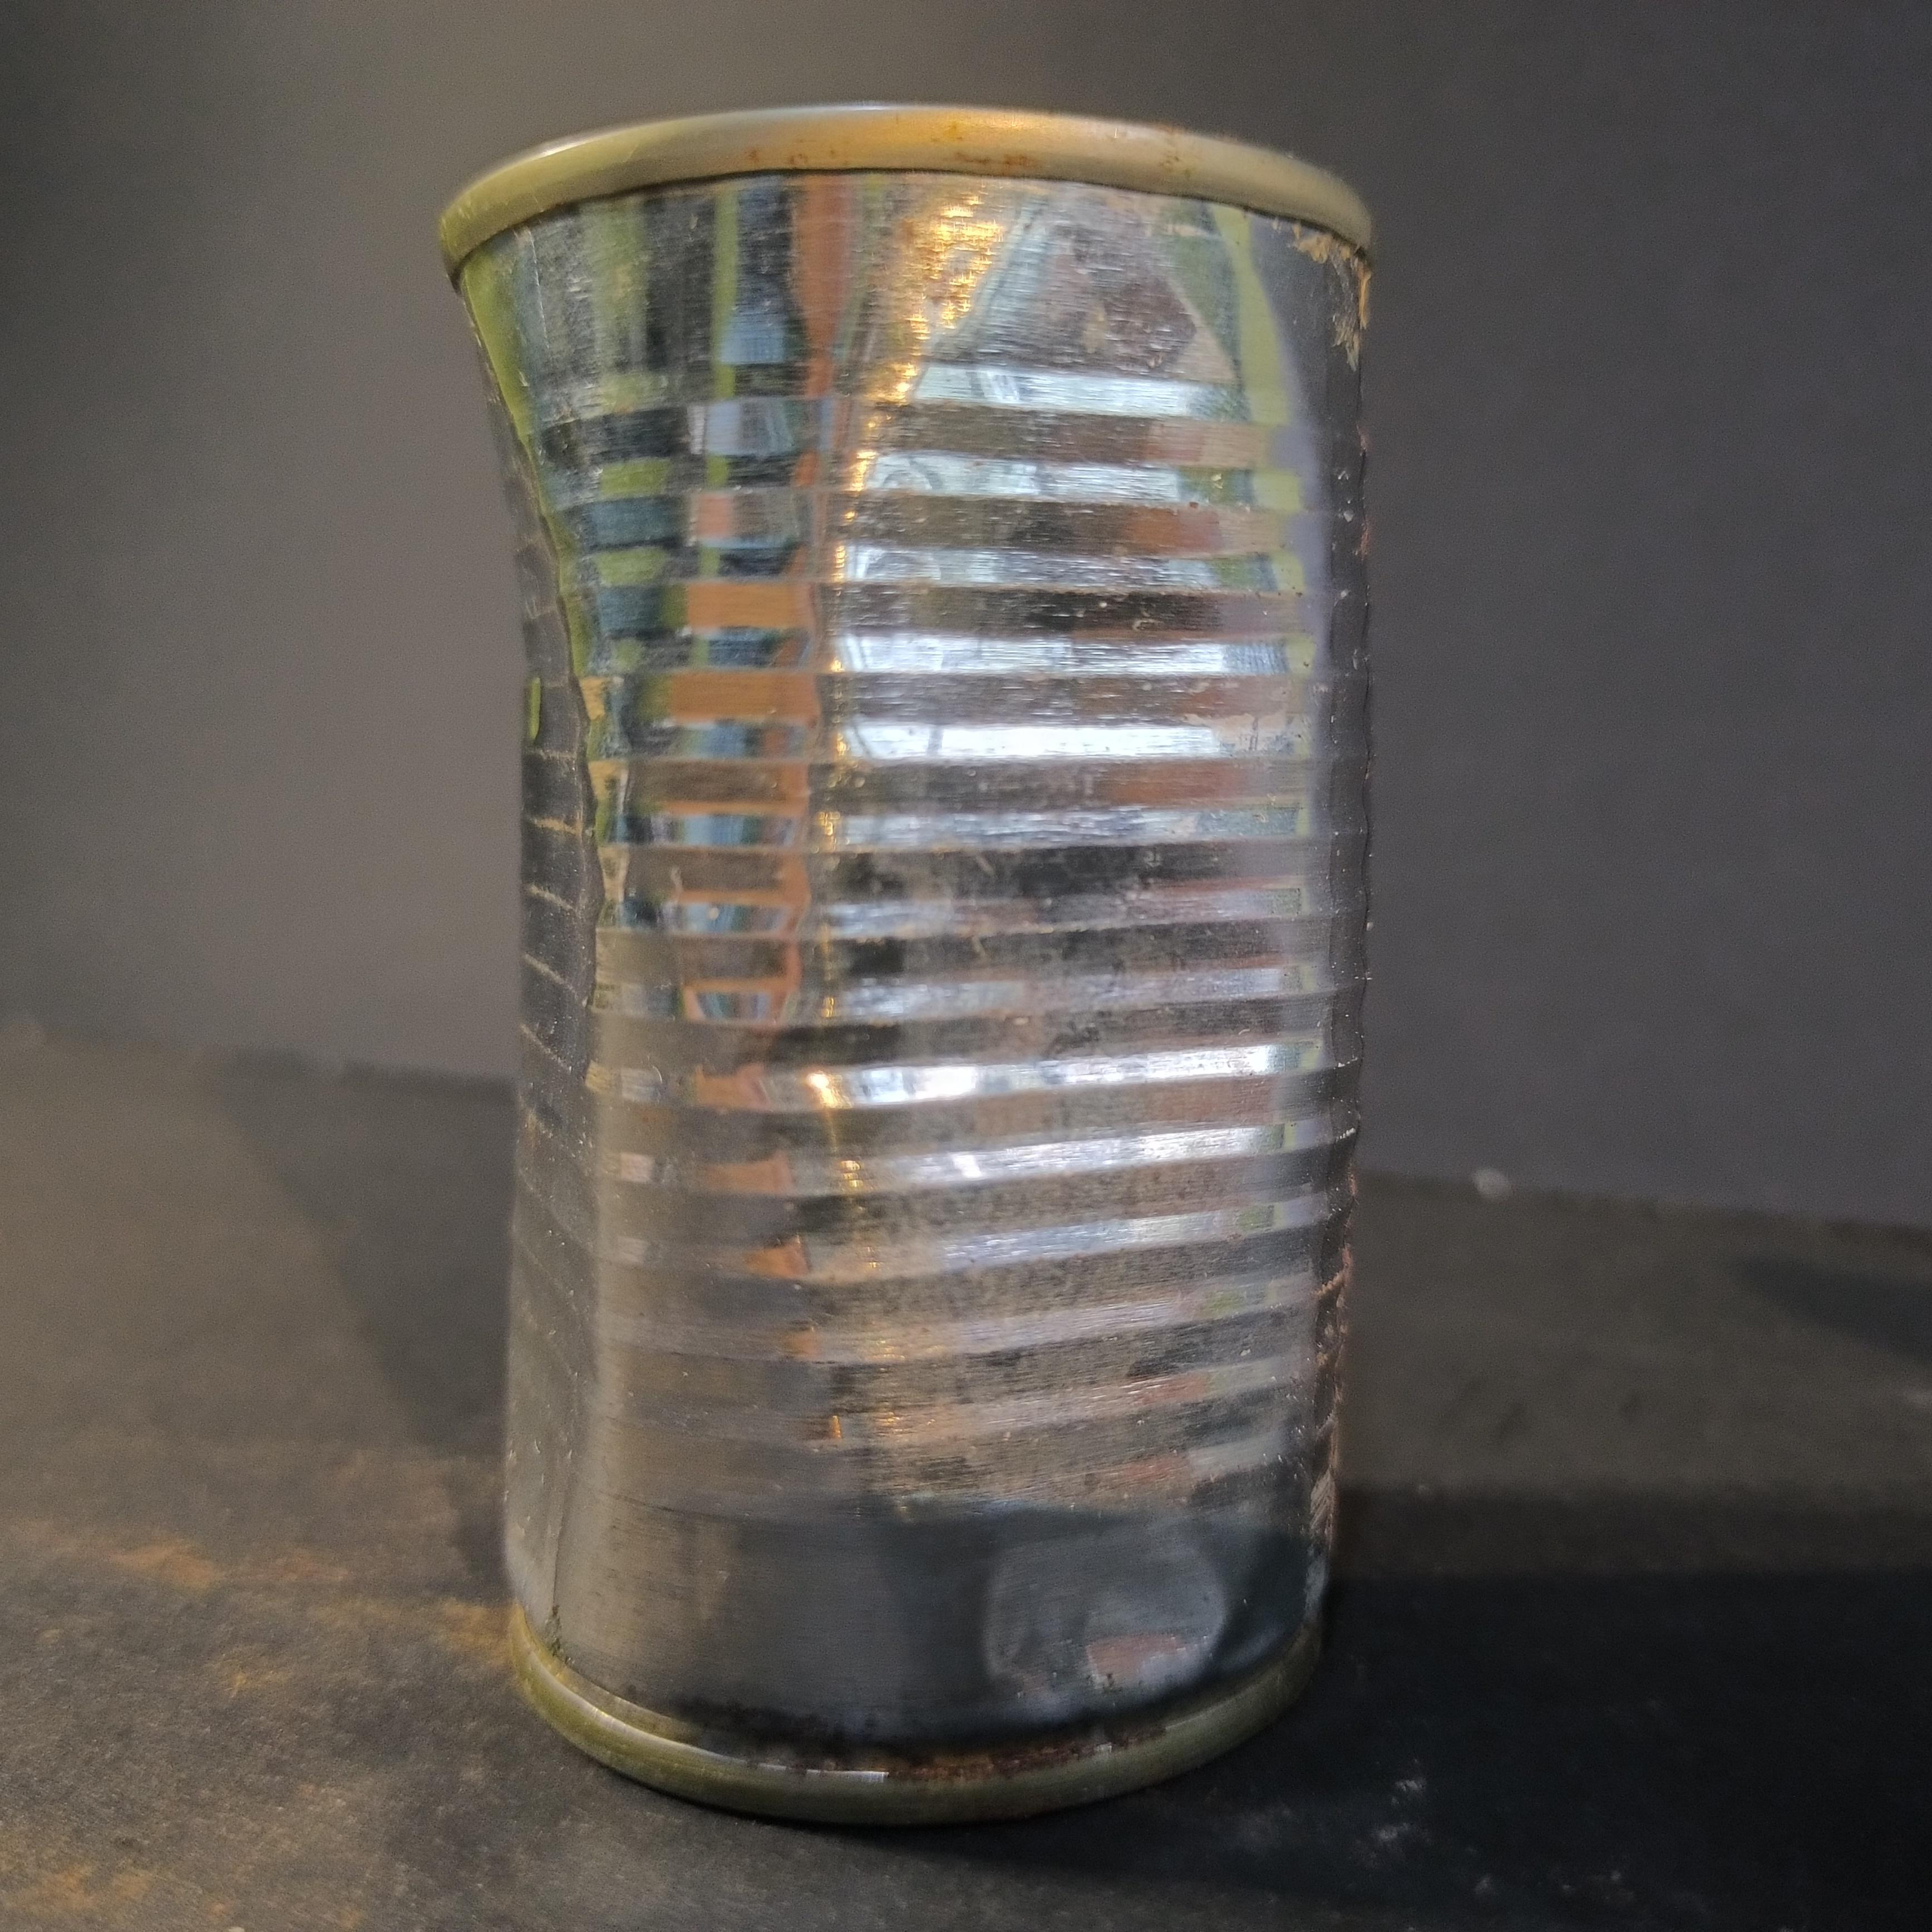Dented: (419, 73, 1419, 1845)
